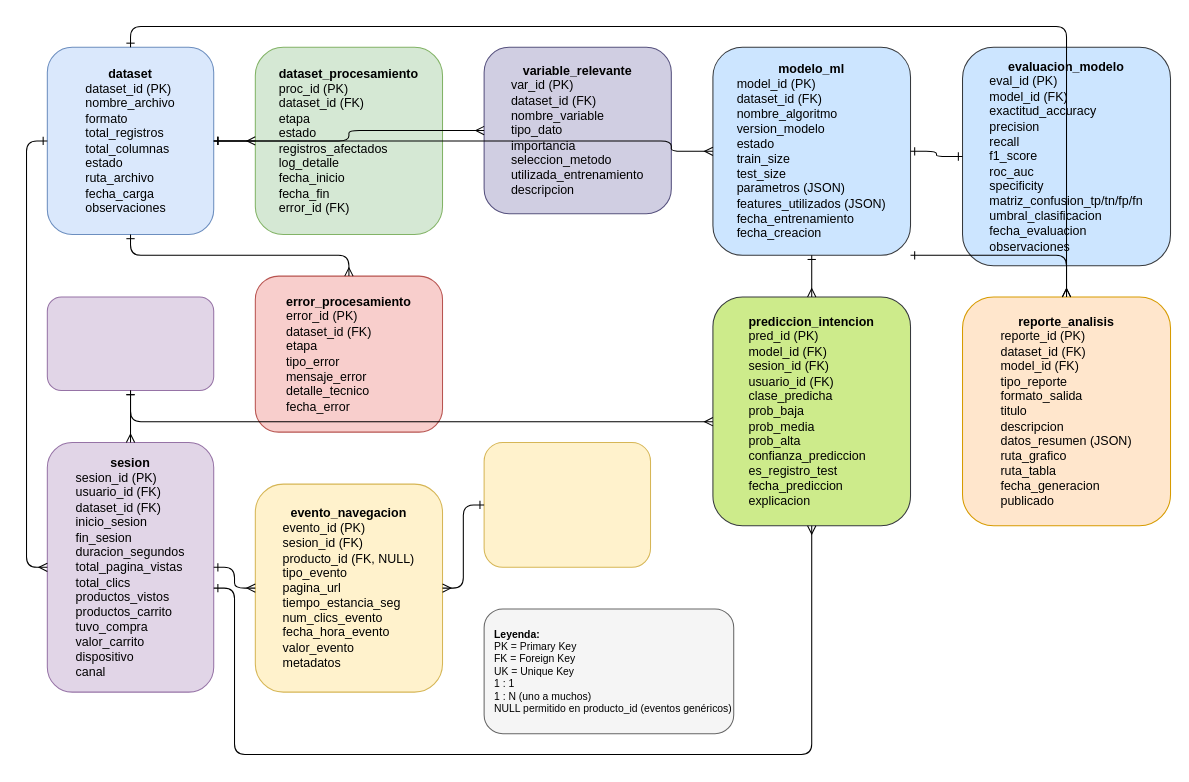
The diagram is 1189 pixels wide and 782 high, and some of its shapes have lost their labels. The centre of each missing label's shape, as x and y in pixels:
producto producto_id (PK) sku (UK) nombre categoria precio marca: the point at 567,504
usuario usuario_id (PK) user_anon_key (UK) segmento_inicial: the point at 130,343
